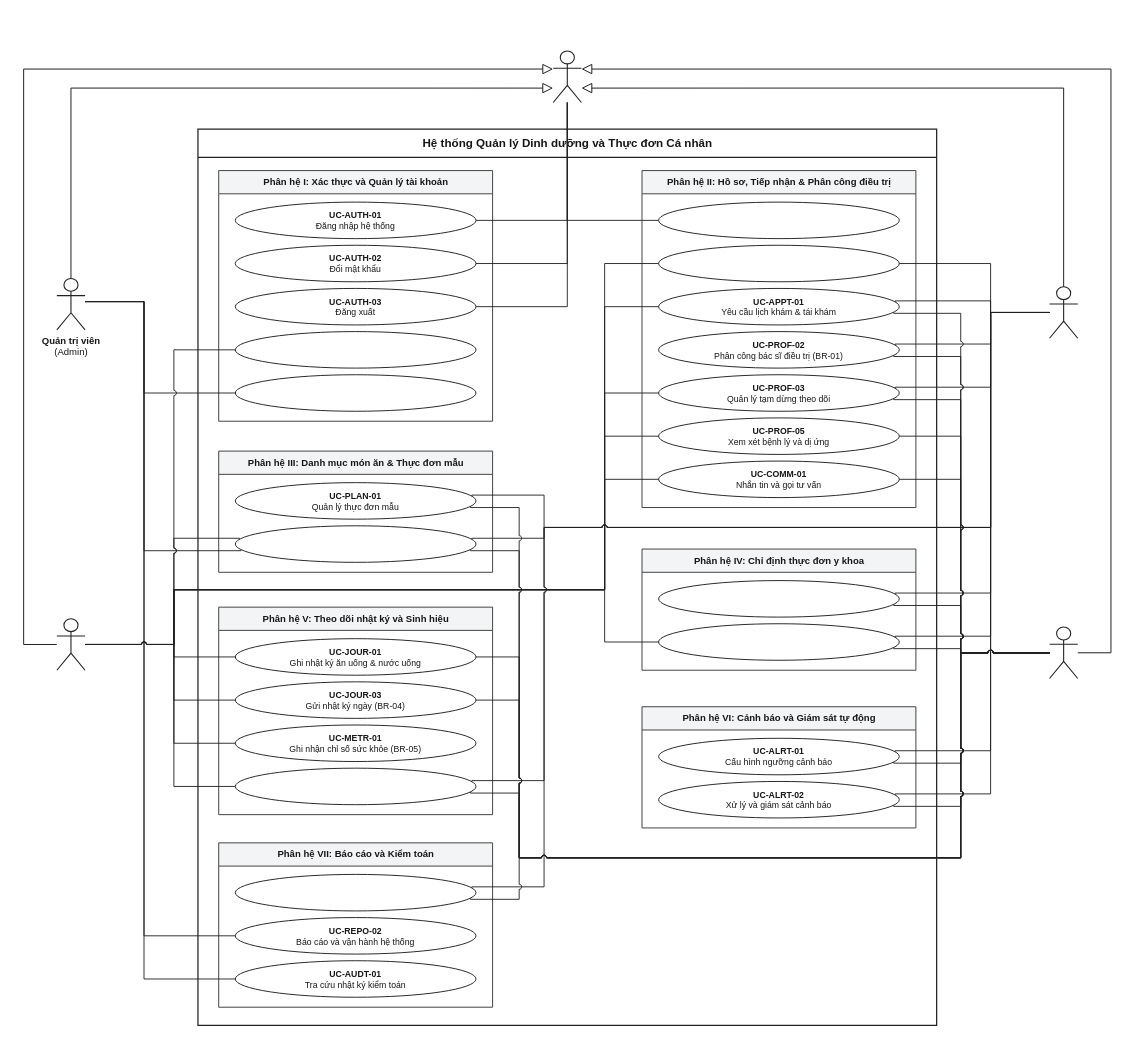
Image size: 1136x1041. Some labels were removed from this diagram. Each missing label, with the centre of its shape:
"Bác sĩ điều trị (Doctor)" belongs at pixel 1063 652.
"Bệnh nhân (Patient)" belongs at pixel 70 644.
"Trưởng khoa (Head of Dept)" belongs at pixel 1063 312.
"UC-AUTH-04 Tự đăng ký và hoàn tất hồ sơ" belongs at pixel 355 349.
"UC-FOOD-01 Quản lý và tra cứu món ăn" belongs at pixel 355 543.
"UC-JOUR-02 Theo dõi tiến độ dinh dưỡng" belongs at pixel 355 786.
"UC-PRES-01 Quản lý phiếu chỉ định thực đơn" belongs at pixel 778 598.
"UC-PRES-02 Xem thực đơn điều trị cá nhân" belongs at pixel 778 641.
"UC-PROF-01 Quản lý hồ sơ cá nhân" belongs at pixel 778 220.
"UC-PROF-04 Xác minh lượt khám & tiếp nhận" belongs at pixel 778 263.
"UC-REPO-01 Xuất báo cáo thống kê" belongs at pixel 355 892.
"UC-USER-01 Quản lý tài khoản người dùng" belongs at pixel 355 392.
"«Abstract» Người dùng hệ thống (System User)" belongs at pixel 567 76.
